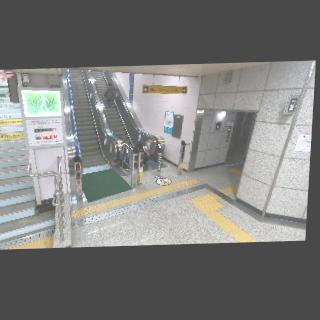anomaly: (128, 142, 149, 169)
normal: (103, 82, 119, 111)
